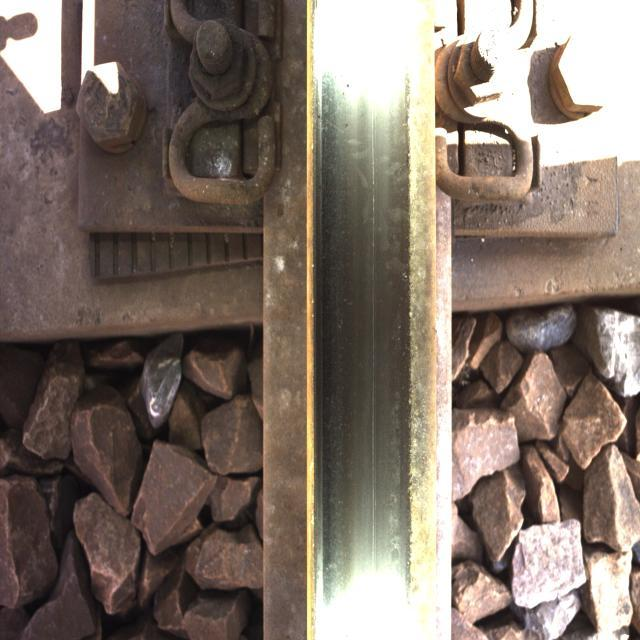break: (315, 58, 404, 592)
